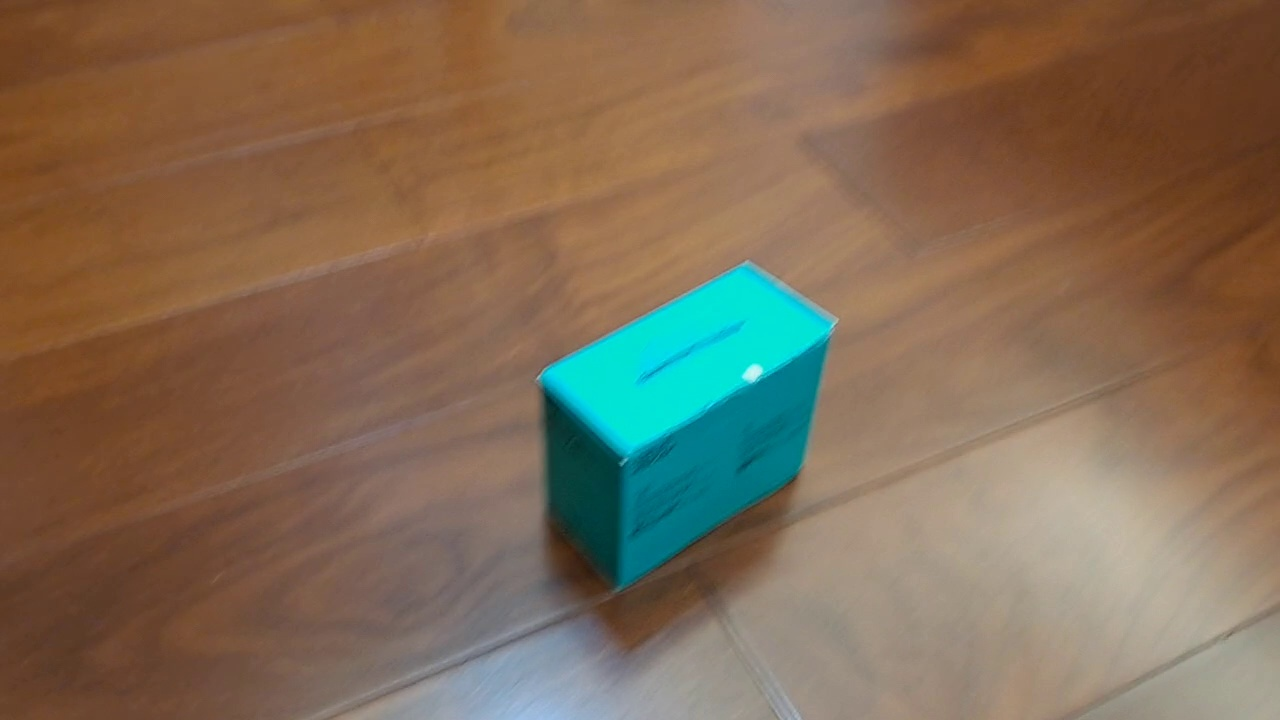webcam: (532, 256, 840, 596)
